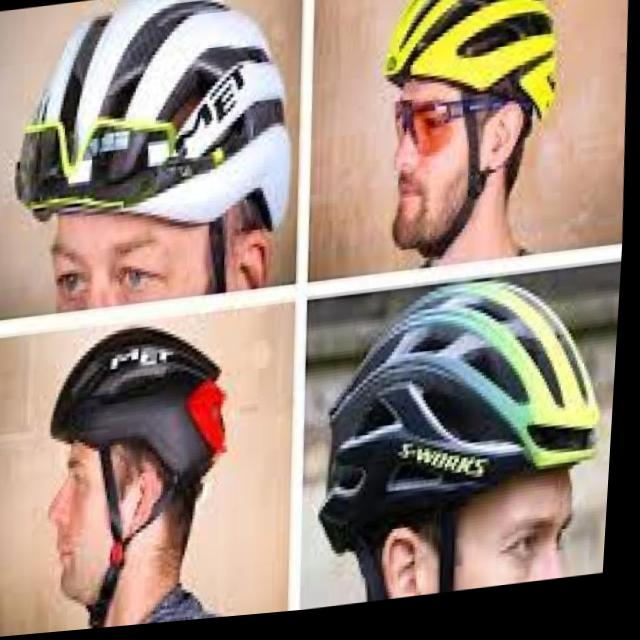helmet: (313, 272, 618, 615), (2, 0, 309, 321), (41, 322, 243, 635), (369, 0, 571, 275)
